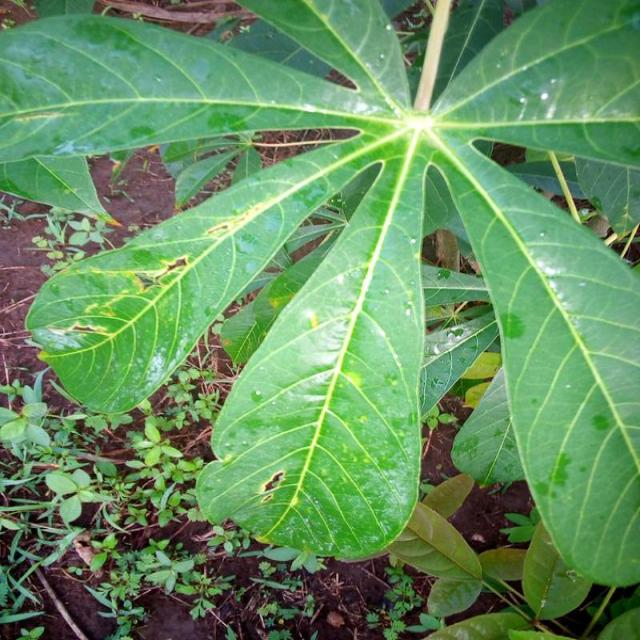cassava leaf: (1, 1, 638, 588), (195, 148, 428, 562), (429, 137, 639, 588)
